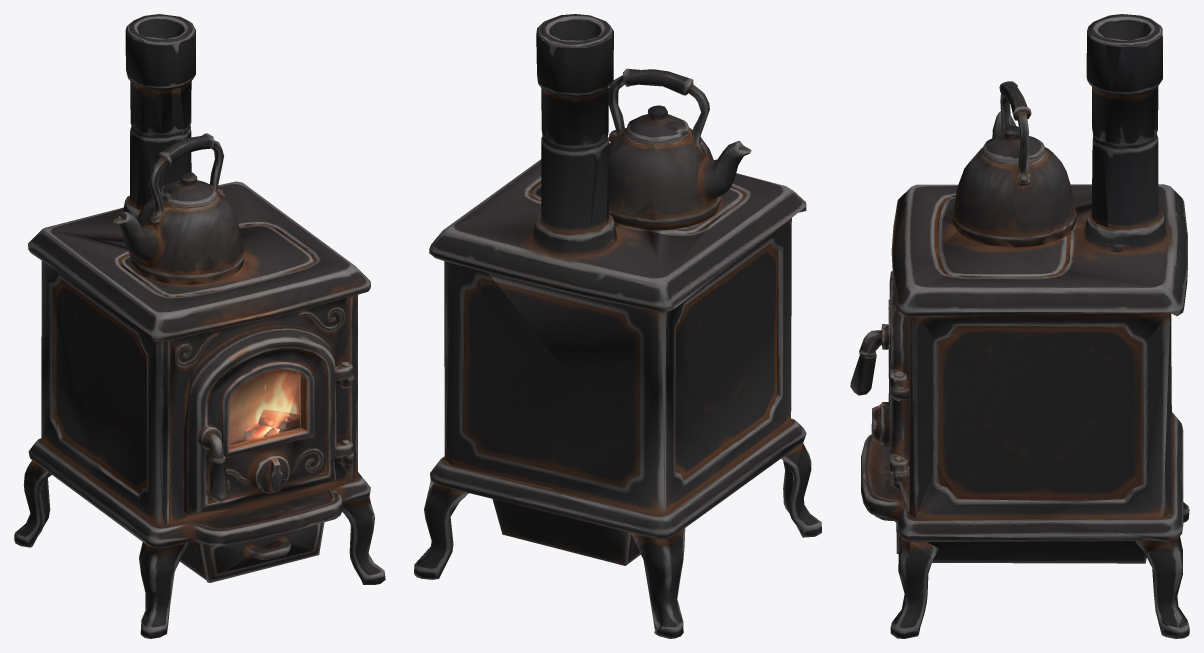
Rendered from Prop_Stove.fbx.
3 renders of one model, left to right at view 1: azimuth 30°, elevation 25°; view 2: azimuth 150°, elevation 25°; view 3: azimuth 270°, elevation 25°, orthographic. The views are drawn at different scales.
Visible parts, largest first — view 1: Mesh_0; view 2: Mesh_0; view 3: Mesh_0.
Boxes of the visible parts, x1,y1,x2,y2 form: Mesh_0: [14, 14, 385, 638]; Mesh_0: [414, 14, 821, 638]; Mesh_0: [850, 14, 1189, 638].
Bounding box in the file's own units: 95.13 × 190 × 107.
Materials: 1 (1 with a texture image).
